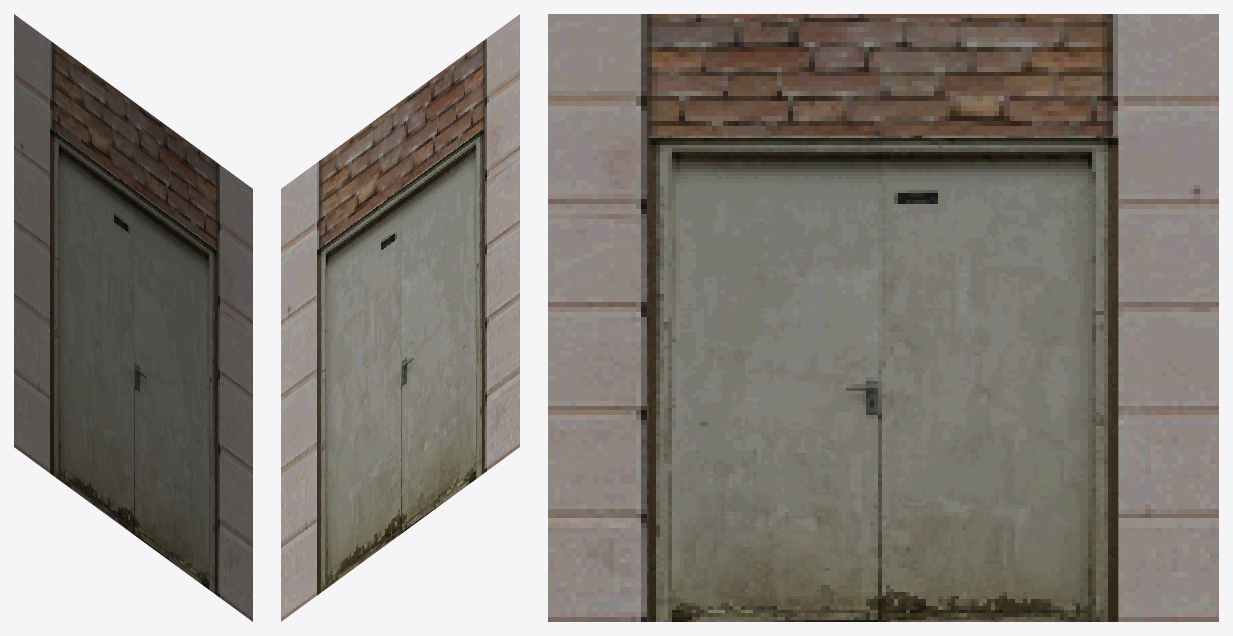
Rendered from fancy_brick_wall_old_door.glb.
The picture shows the model from 3 angles, left to right: view 1: azimuth 30°, elevation 25°; view 2: azimuth 150°, elevation 25°; view 3: azimuth 270°, elevation 25°; orthographic projection. The views are drawn at different scales.
Visible parts, largest first — view 1: fancy_brick_wall_old_door; view 2: fancy_brick_wall_old_door; view 3: fancy_brick_wall_old_door.
Part boxes in pixels (x1,y1,x2,y2): fancy_brick_wall_old_door: (14, 14, 252, 621); fancy_brick_wall_old_door: (281, 14, 519, 621); fancy_brick_wall_old_door: (548, 14, 1218, 621).
Size of the model in its own units: 0 by 3 by 3.
Materials: 1 (1 with a texture image).
